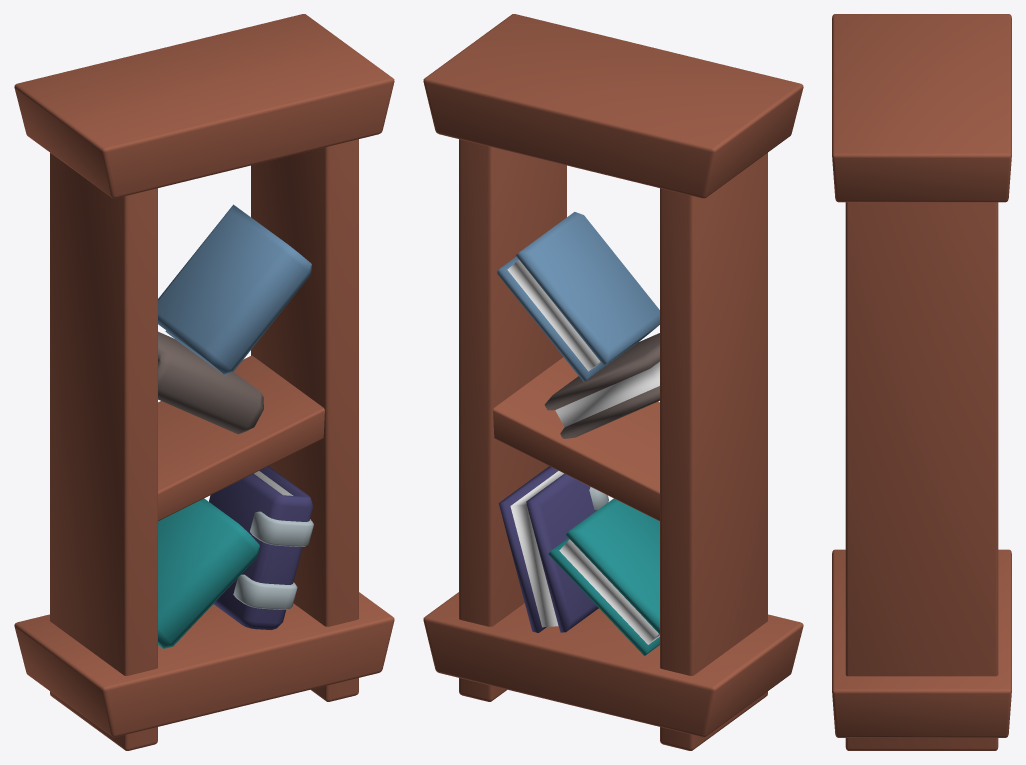
The model's file is bookcaseFilled_broken.glb.
The picture shows the model from 3 angles, left to right: view 1: azimuth 30°, elevation 25°; view 2: azimuth 150°, elevation 25°; view 3: azimuth 270°, elevation 25°; orthographic projection.
Parts seen in each view (by area): view 1: bookcaseFilled_broken; view 2: bookcaseFilled_broken; view 3: bookcaseFilled_broken.
Boxes of the visible parts, x1=… form: bookcaseFilled_broken: x1=14, y1=14, x2=394, y2=750; bookcaseFilled_broken: x1=423, y1=14, x2=803, y2=750; bookcaseFilled_broken: x1=832, y1=14, x2=1011, y2=750.
Bounding box in the file's own units: 0.394 × 0.7926 × 0.2112.
